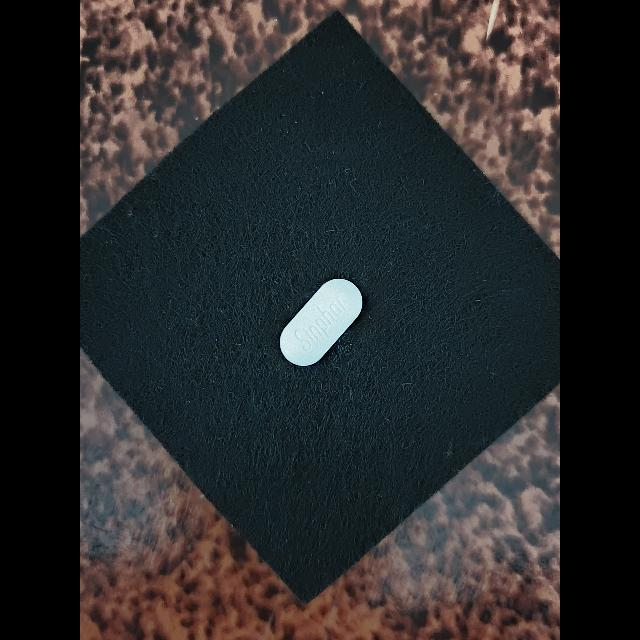Intact Pill: (279, 278, 363, 367)
